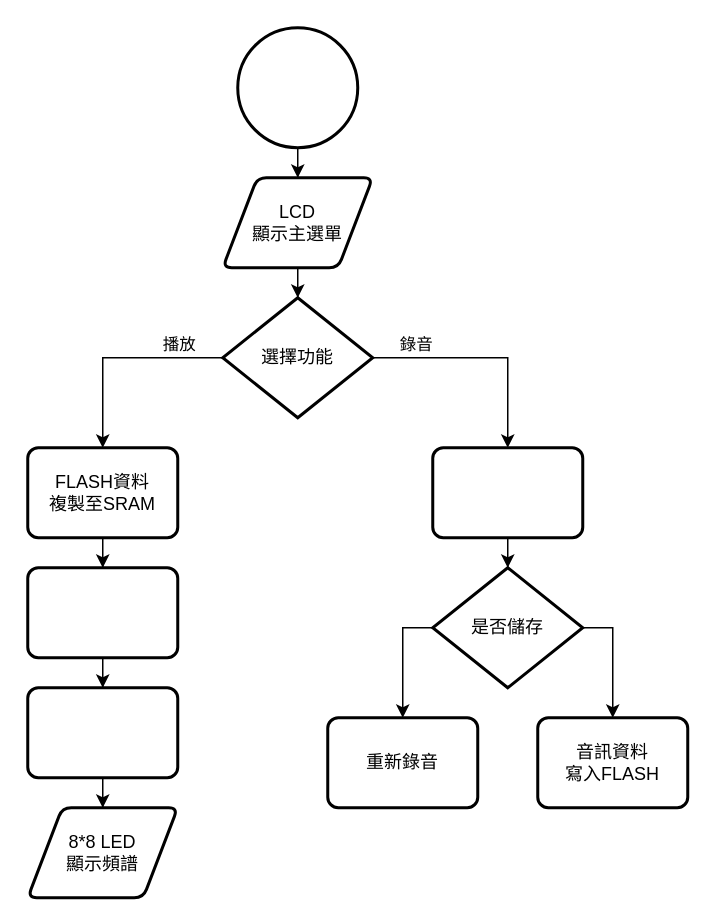
This 714x924 diagram has some shape labels left out. Each missing label, with the centre of its shape:
Audio CODEC 播放聲音: the point at 102,612
FFT頻譜分析: the point at 102,732
開機: the point at 297,87
音訊資料 寫入SRAM: the point at 507,492
